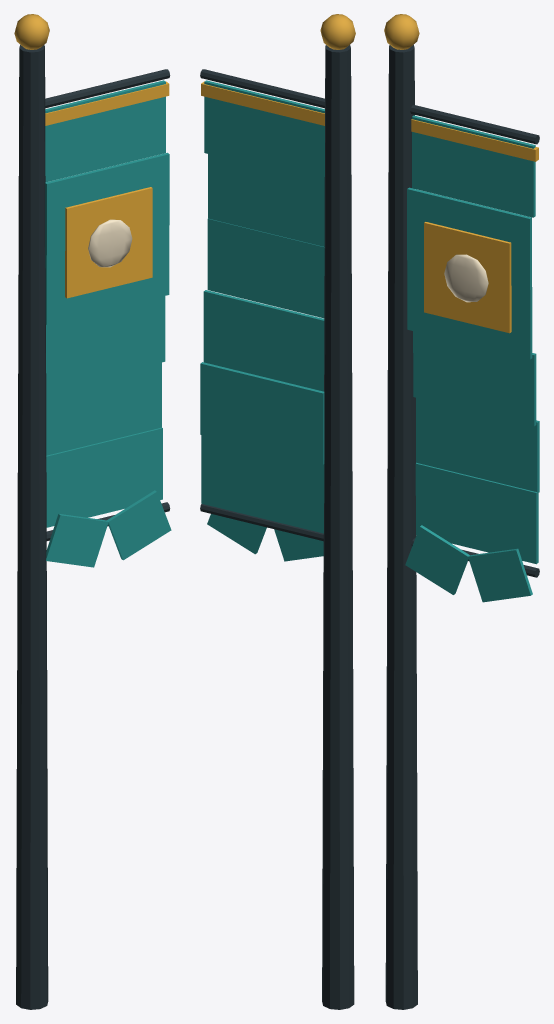
Rendered from rt_banner_teal.glb.
The picture shows the model from 3 angles, left to right: view 1: azimuth 30°, elevation 25°; view 2: azimuth 150°, elevation 25°; view 3: azimuth 330°, elevation 25°; orthographic projection.
Parts seen in each view (by area): view 1: rt_banner_teal_body; view 2: rt_banner_teal_body; view 3: rt_banner_teal_body.
Part boxes in pixels (x1,y1,x2,y2): rt_banner_teal_body: (14,14,171,1009); rt_banner_teal_body: (200,14,355,1009); rt_banner_teal_body: (384,14,539,1009).
Bounding box in the file's own units: 1.05 × 6.61 × 0.22.
